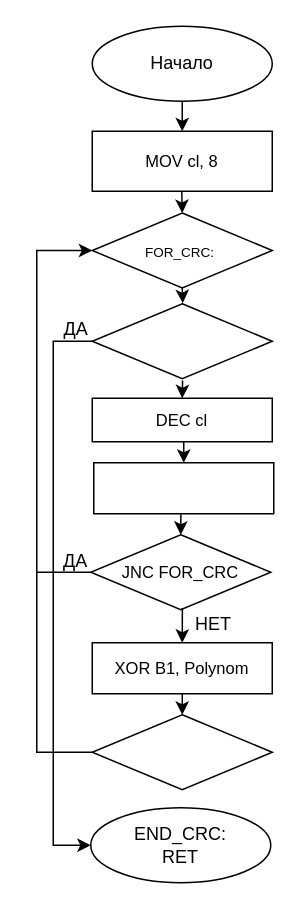
Image size: 300x909. Some labels were removed from this diagram. The centre of each missing label's shape, as x and y in pixels:
"CMP cl, 0 JE END_CRC" belongs at point (181, 340).
"JMP FOR_CRC" belongs at point (181, 751).
"SHR B2, 1 SHR B1, 1" belongs at point (183, 487).
